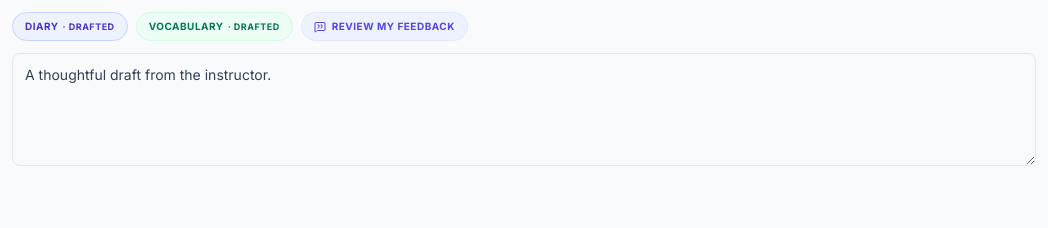
Scenario: AI review prerequisite recovery › explicit successful recovery clears not_authenticated despite cached-true prerequisites
Later steps or results of the test are not shown.
Click the button "Review my feedback". click: click(384, 26)
box: [301,12,468,41]
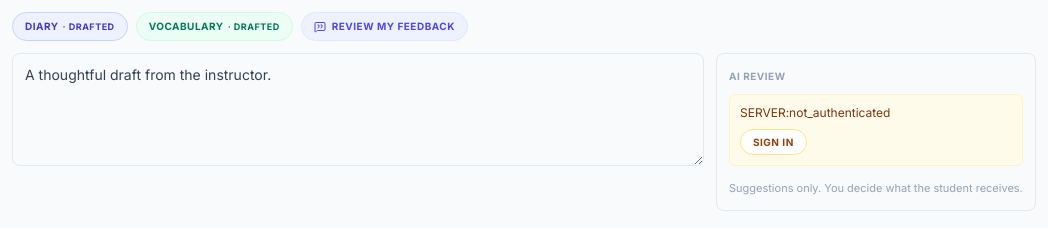
Expected: the button "Sign in" is shown, [740,129,807,155]
